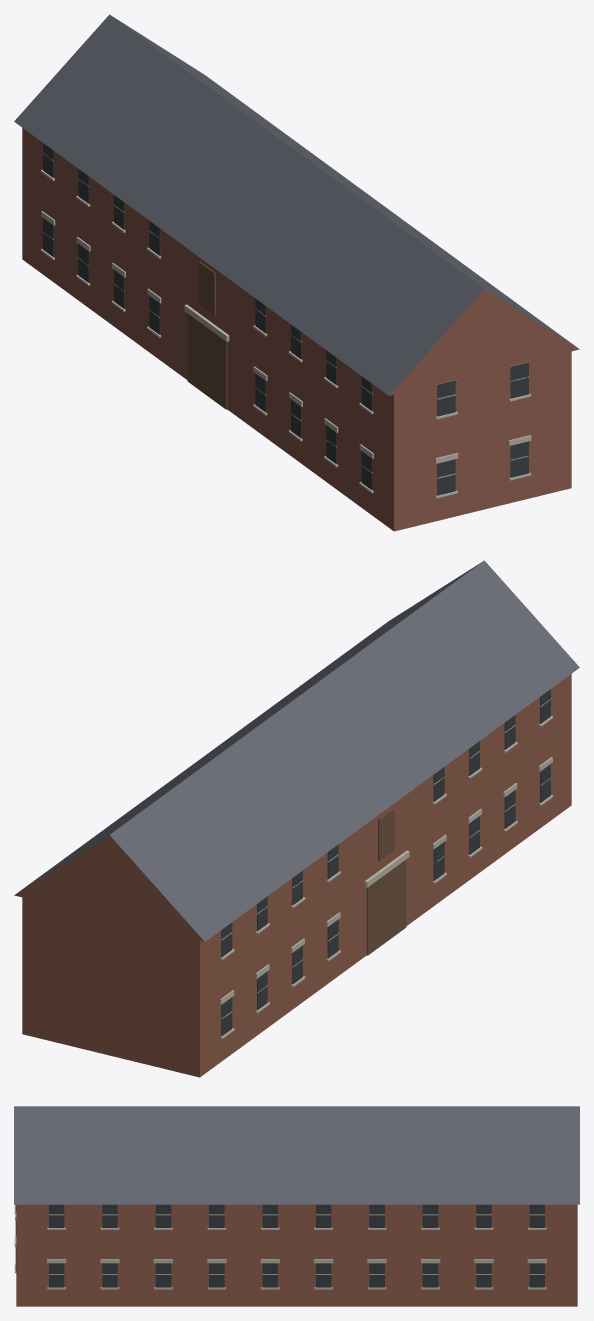
The model's file is edson_keith_house_1906_prairie_coach_house__draft_1904.glb.
3 renders of one model, top to bottom at view 1: azimuth 30°, elevation 25°; view 2: azimuth 150°, elevation 25°; view 3: azimuth 270°, elevation 25°, orthographic. The views are drawn at different scales.
Visible parts, largest first — view 1: edson_keith_house_1906_prairie_coach_house__draft_1904; view 2: edson_keith_house_1906_prairie_coach_house__draft_1904; view 3: edson_keith_house_1906_prairie_coach_house__draft_1904.
Boxes of the visible parts, <box> form: edson_keith_house_1906_prairie_coach_house__draft_1904: <box>14,14,579,531</box>; edson_keith_house_1906_prairie_coach_house__draft_1904: <box>14,560,579,1077</box>; edson_keith_house_1906_prairie_coach_house__draft_1904: <box>14,1106,579,1306</box>.
Size of the model in its own units: 8.6 by 9.56 by 29.24.
